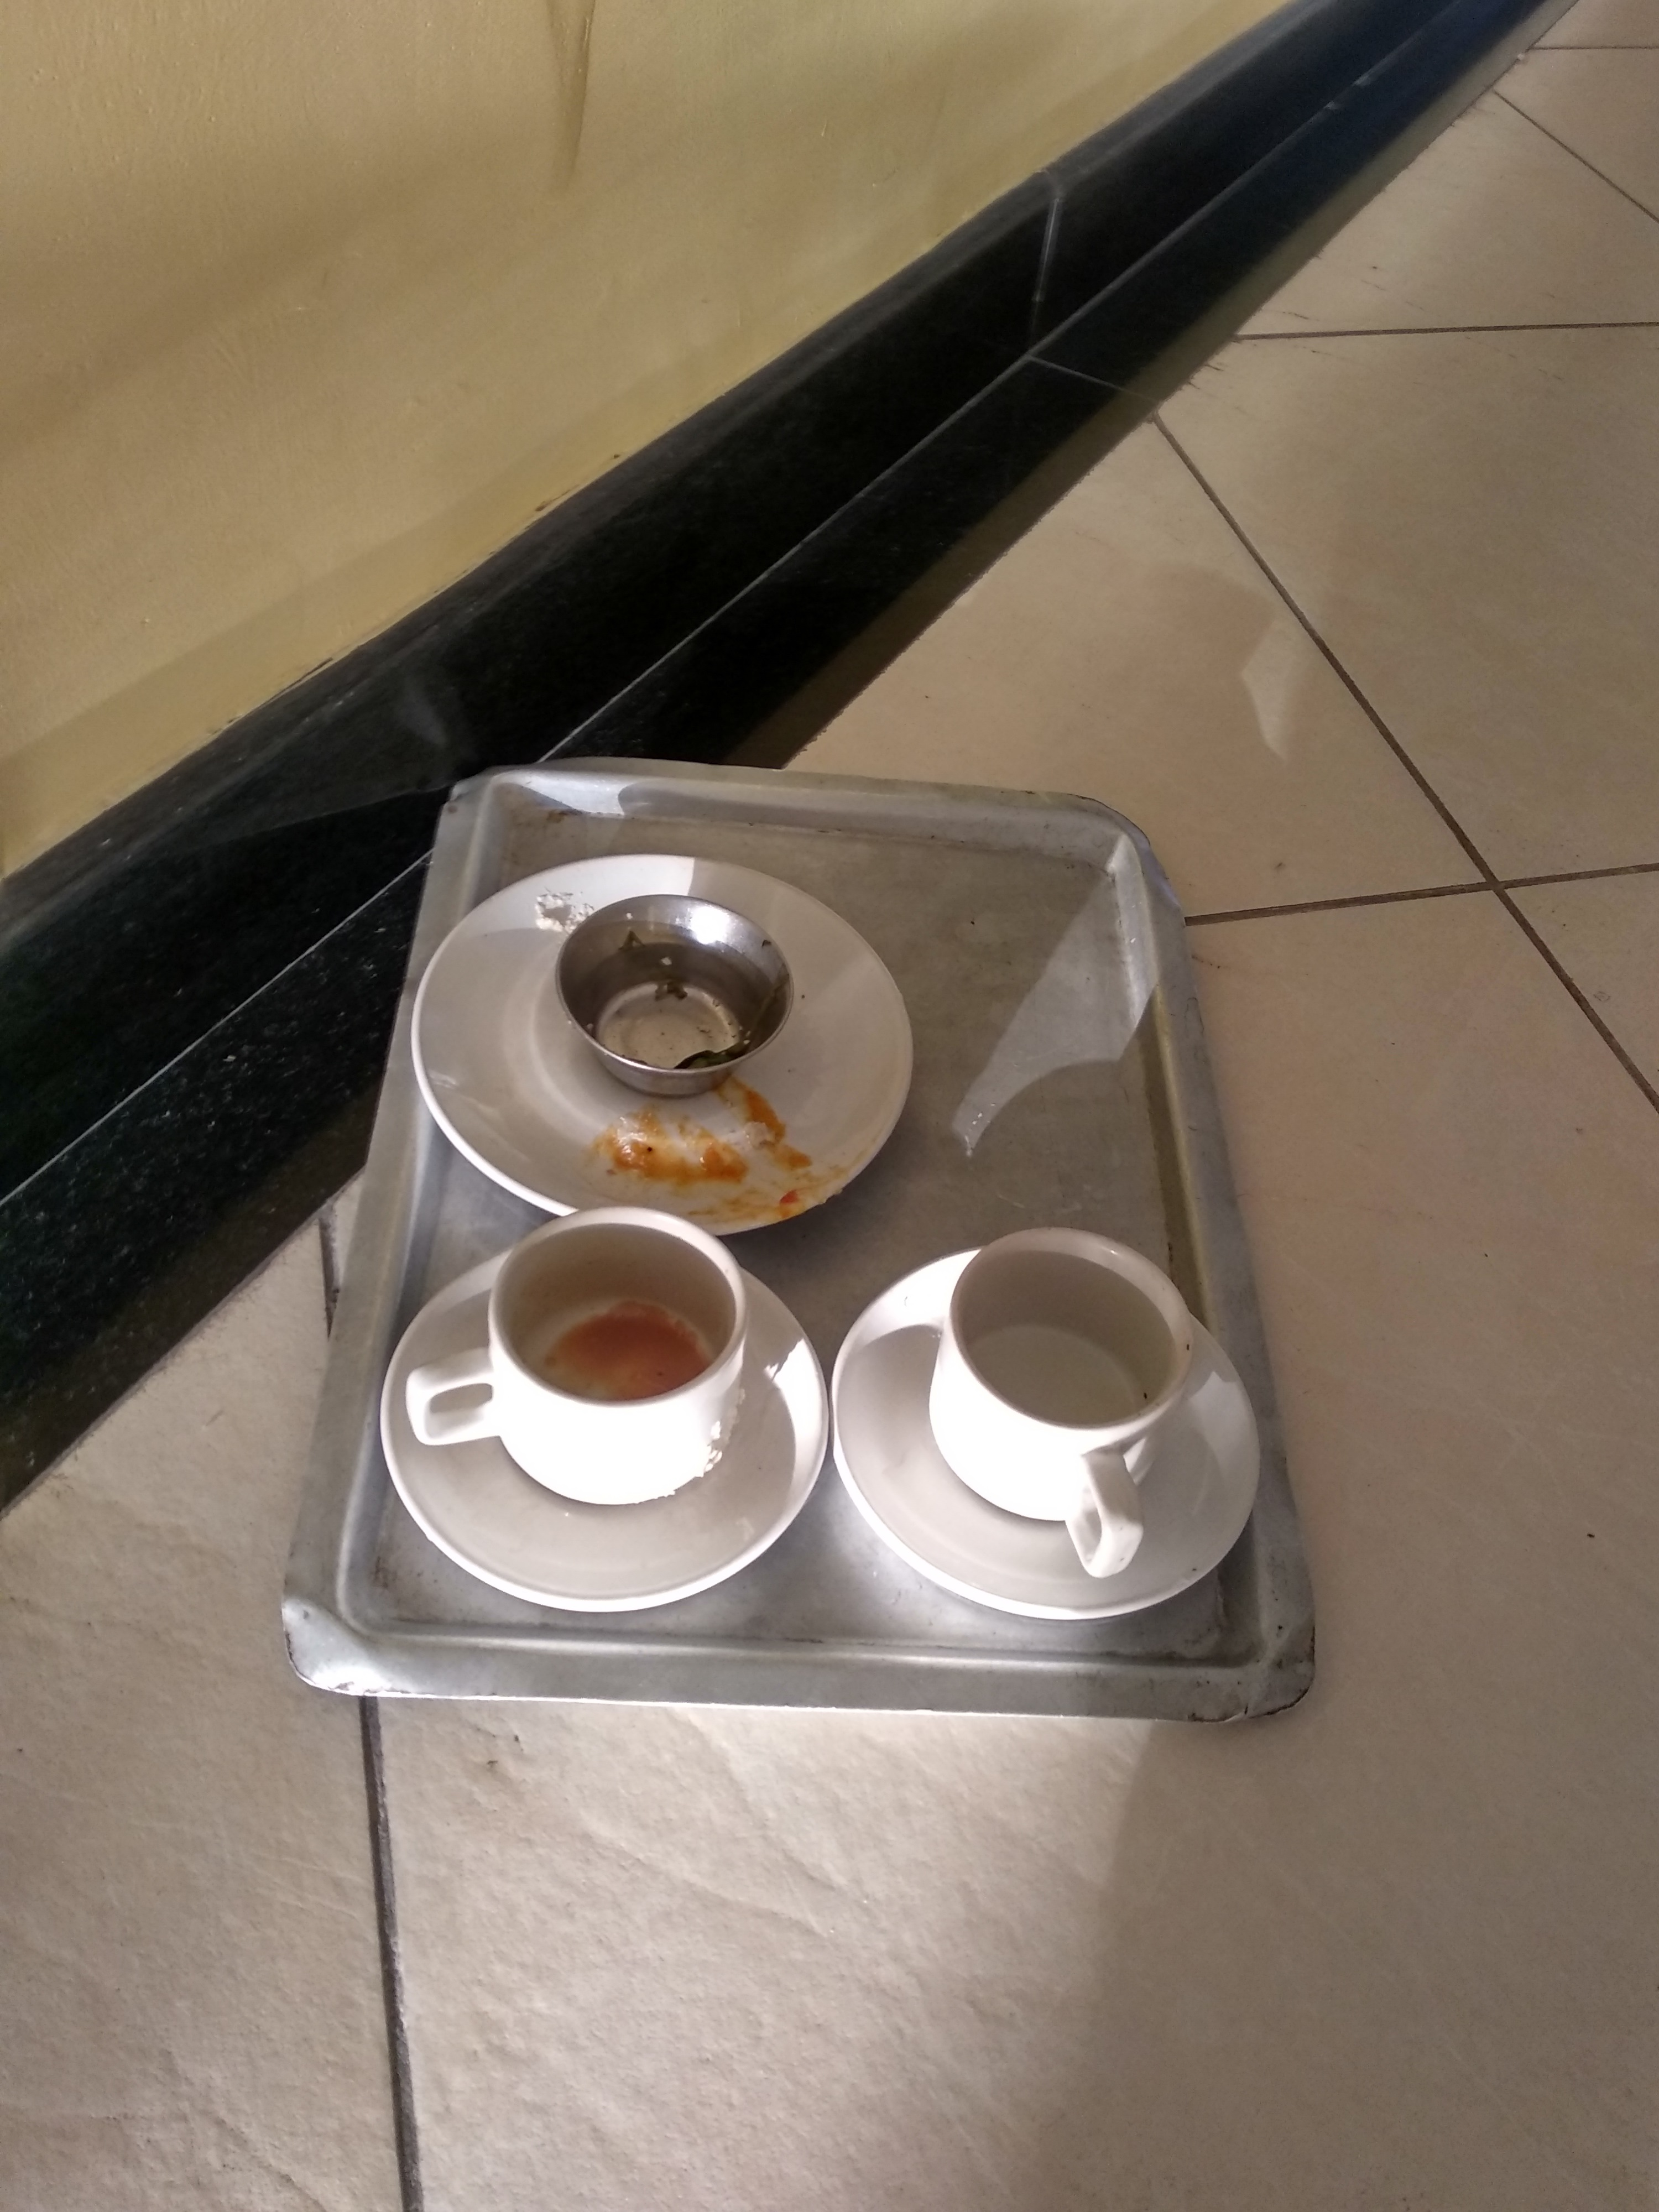CUP: (406, 1193, 805, 1547), (850, 1224, 1248, 1571), (545, 894, 816, 1109)
